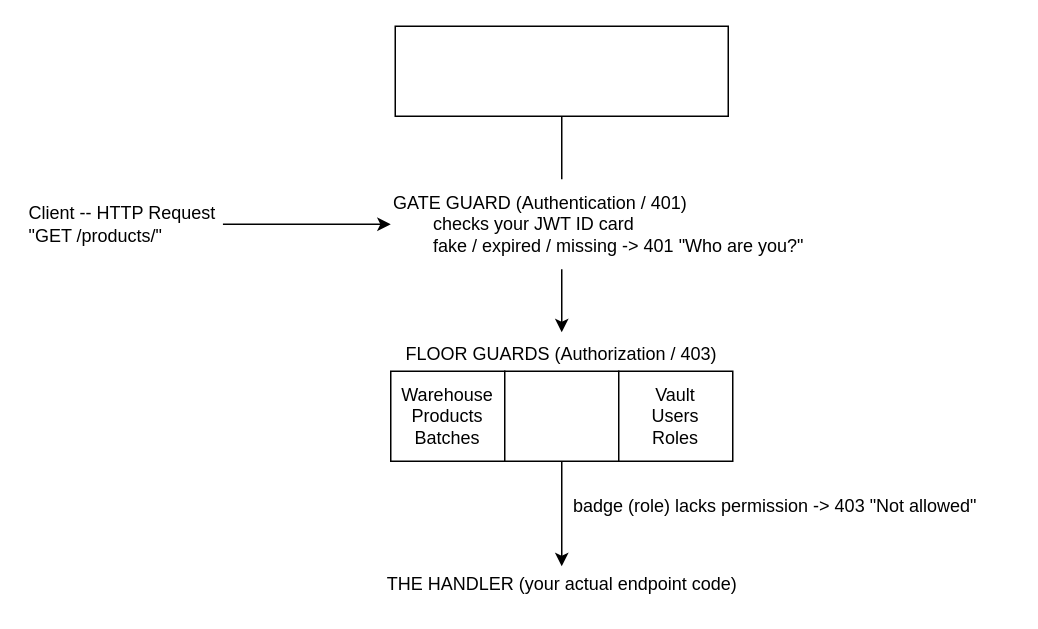
The diagram is 1038 pixels wide and 629 high, and some of its shapes have lost their labels. The box of each missing label's shape, as (x1, y1, x2, y2) in pixels:
Production Inventory Production: (503, 370, 619, 461)
THE CASTLE (YOUR API): (394, 25, 728, 116)
